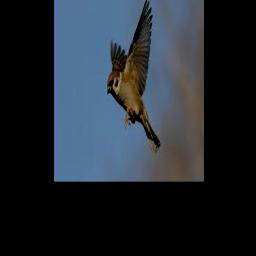Sparrow: (107, 0, 160, 155)
